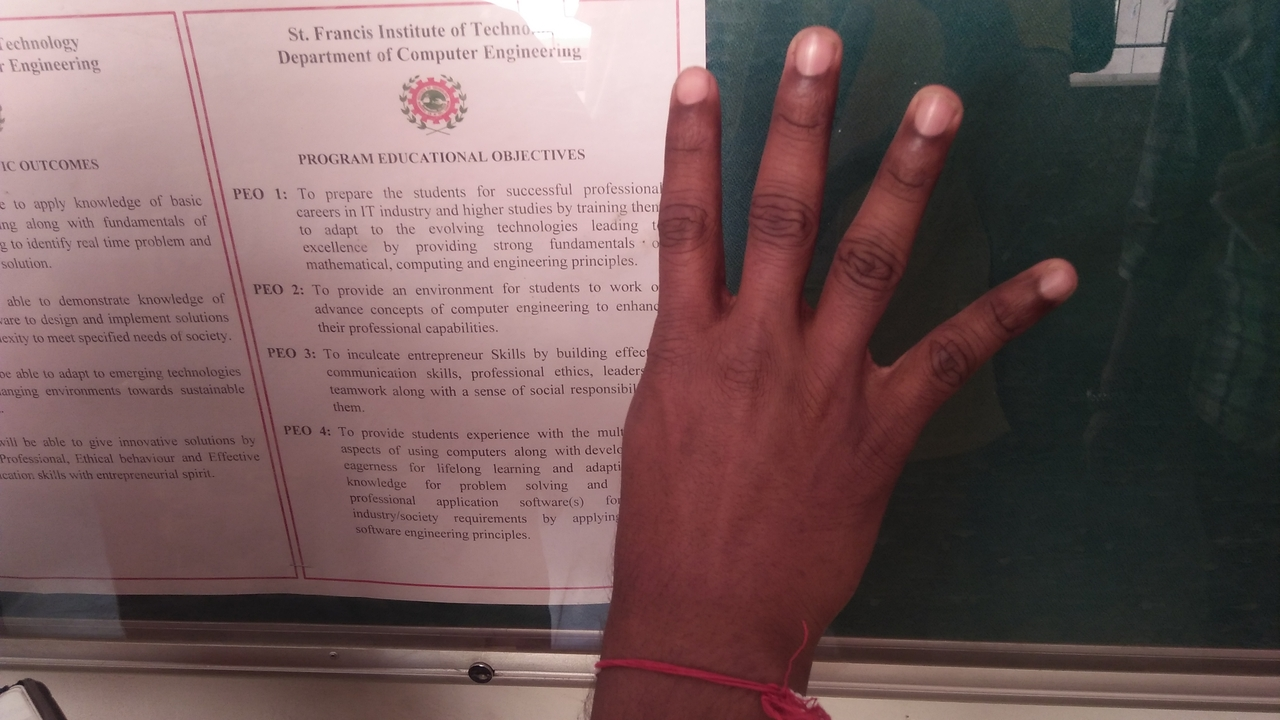fingertip: (900, 76, 972, 140), (1020, 244, 1094, 304), (782, 20, 848, 82), (666, 62, 724, 118)
